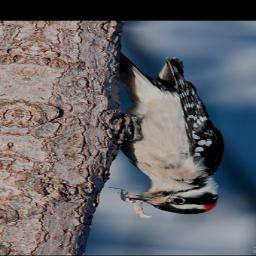Woodpecker: (85, 53, 254, 217)
